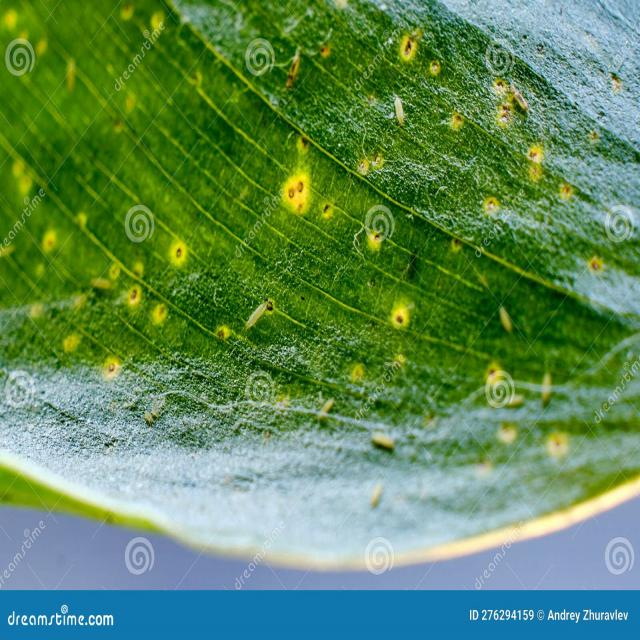Thrip-Larva-: (238, 298, 273, 335), (386, 86, 408, 132), (508, 86, 530, 118)
